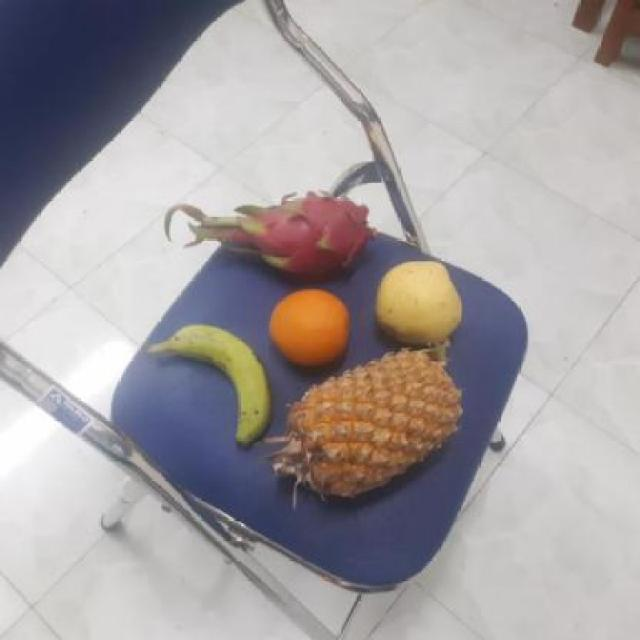banana: (159, 323, 273, 445)
dragon fruit: (222, 192, 370, 283)
oren: (265, 288, 353, 370)
pear: (372, 258, 466, 347)
pineapple: (279, 350, 456, 493)
